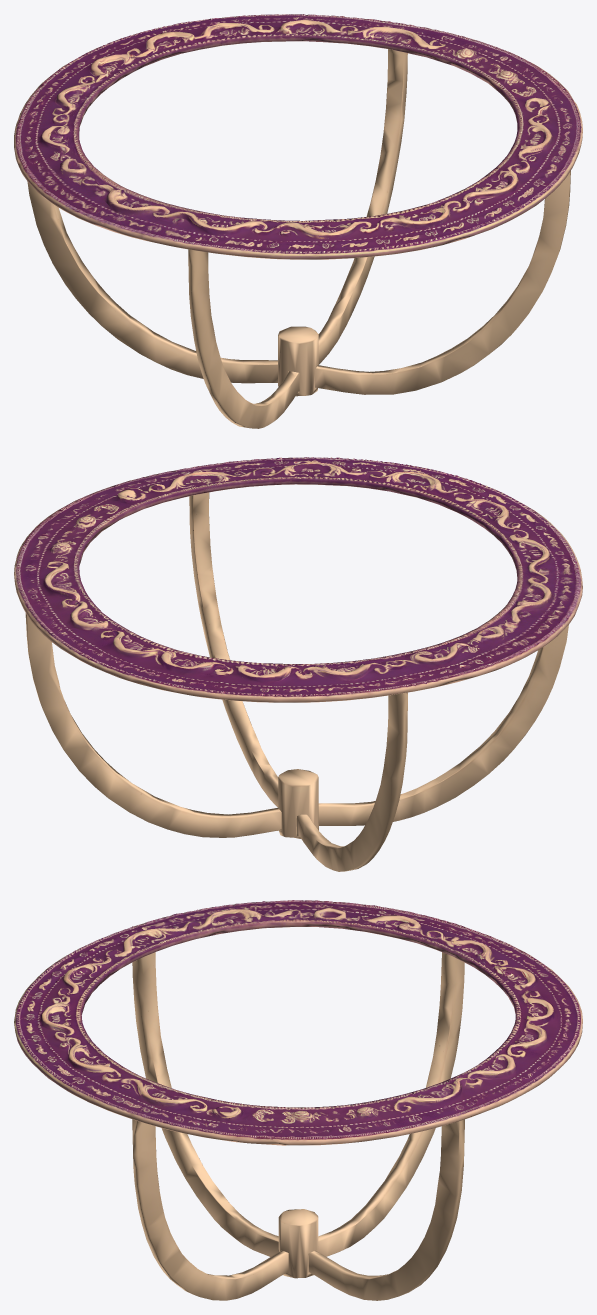
The model's file is EtherVessel_RingStand.glb.
The picture shows the model from 3 angles, top to bottom: view 1: azimuth 30°, elevation 25°; view 2: azimuth 150°, elevation 25°; view 3: azimuth 270°, elevation 25°; orthographic projection.
Visible parts, largest first — view 1: tripo_node_63d4c97e-7f25-4bb0-b5f6-62ed11a0af16; view 2: tripo_node_63d4c97e-7f25-4bb0-b5f6-62ed11a0af16; view 3: tripo_node_63d4c97e-7f25-4bb0-b5f6-62ed11a0af16.
Boxes of the visible parts, box(x1,y1,x2,y2) form: tripo_node_63d4c97e-7f25-4bb0-b5f6-62ed11a0af16: box(14, 14, 582, 428); tripo_node_63d4c97e-7f25-4bb0-b5f6-62ed11a0af16: box(14, 457, 582, 871); tripo_node_63d4c97e-7f25-4bb0-b5f6-62ed11a0af16: box(14, 900, 582, 1300).
Bounding box in the file's own units: 0.9796 × 0.4944 × 0.9787.
Materials: 1 (1 with a texture image).
